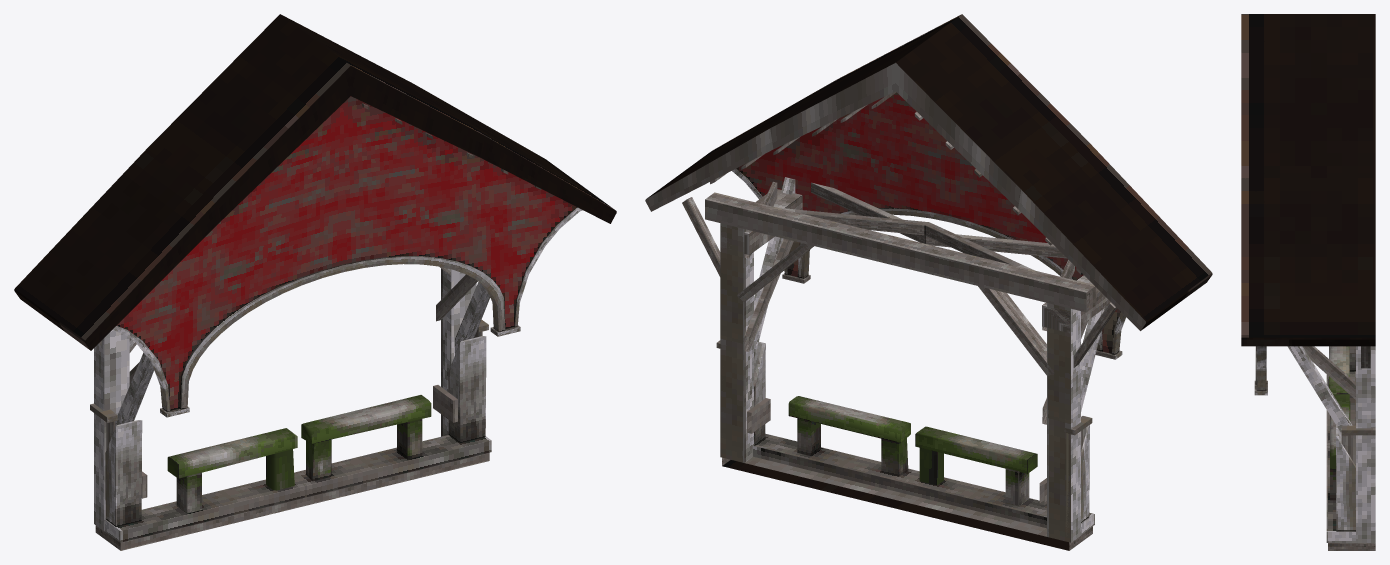
File: 5_b4_right_right.glb
3 views of the same model, side by side, from view 1: azimuth 30°, elevation 25°; view 2: azimuth 150°, elevation 25°; view 3: azimuth 270°, elevation 25° (orthographic). The views are drawn at different scales.
Parts seen in each view (by area): view 1: 5_b4_right_right; view 2: 5_b4_right_right; view 3: 5_b4_right_right.
Boxes of the visible parts, x1,y1,x2,y2 form: 5_b4_right_right: (14, 14, 616, 550); 5_b4_right_right: (645, 14, 1212, 550); 5_b4_right_right: (1241, 14, 1375, 550).
Size of the model in its own units: 8.69 by 7.39 by 2.
Materials: 1 (1 with a texture image).
